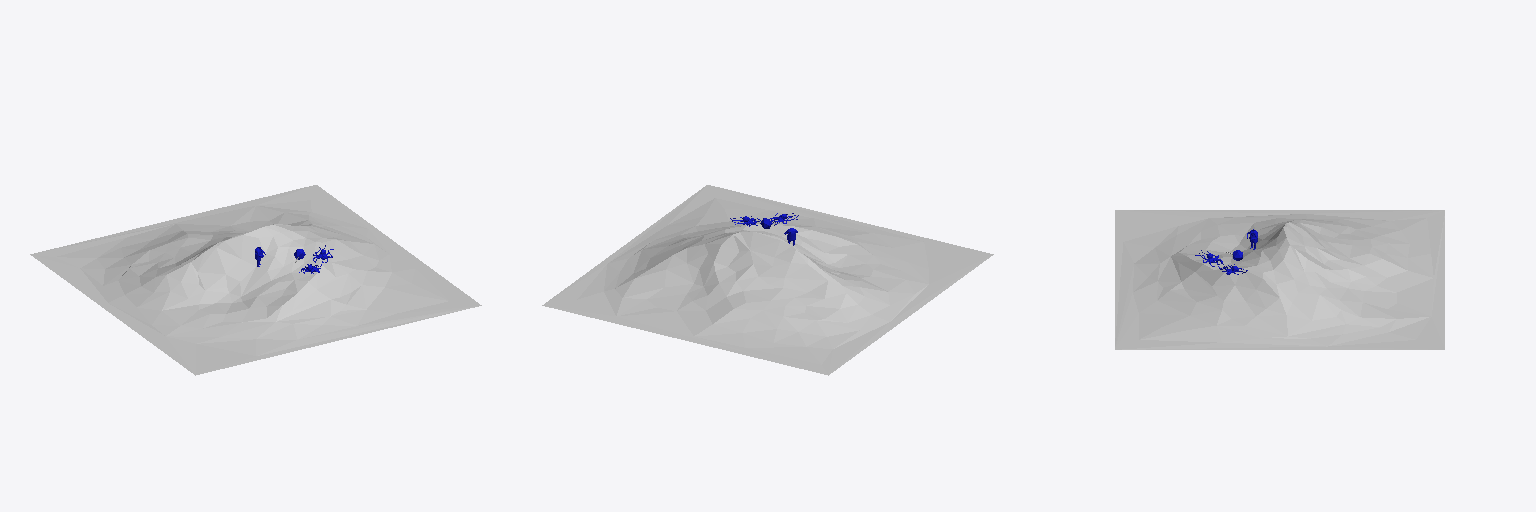
File: trump_01.obj
3 renders of one model, left to right at view 1: azimuth 30°, elevation 25°; view 2: azimuth 150°, elevation 25°; view 3: azimuth 270°, elevation 25°, orthographic.
Parts seen in each view (by area): view 1: körper.1; view 2: körper.1; view 3: körper.1.
Boxes of the visible parts, x1=… form: körper.1: x1=30, y1=185, x2=481, y2=375; körper.1: x1=542, y1=185, x2=993, y2=375; körper.1: x1=1115, y1=210, x2=1444, y2=349.
Size of the model in its own units: 600 by 96.29 by 600.